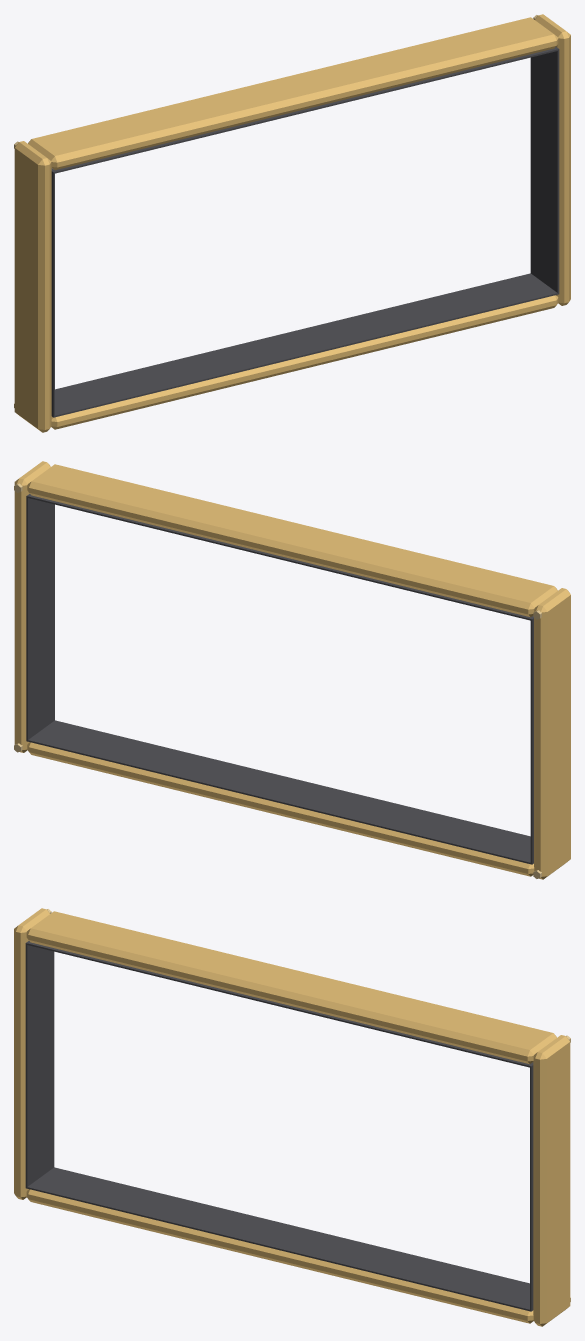
Rendered from Bezel_2x1.fbx.
3 views of the same model, one above another, from view 1: azimuth 30°, elevation 25°; view 2: azimuth 150°, elevation 25°; view 3: azimuth 330°, elevation 25° (orthographic).
Parts seen in each view (by area): view 1: Bezel_2x1; view 2: Bezel_2x1; view 3: Bezel_2x1.
Part boxes in pixels (x1,y1,x2,y2): Bezel_2x1: (14,14,570,432); Bezel_2x1: (14,461,570,879); Bezel_2x1: (14,908,570,1326).
Bounding box in the file's own units: 2.16 × 1.06 × 0.211.
